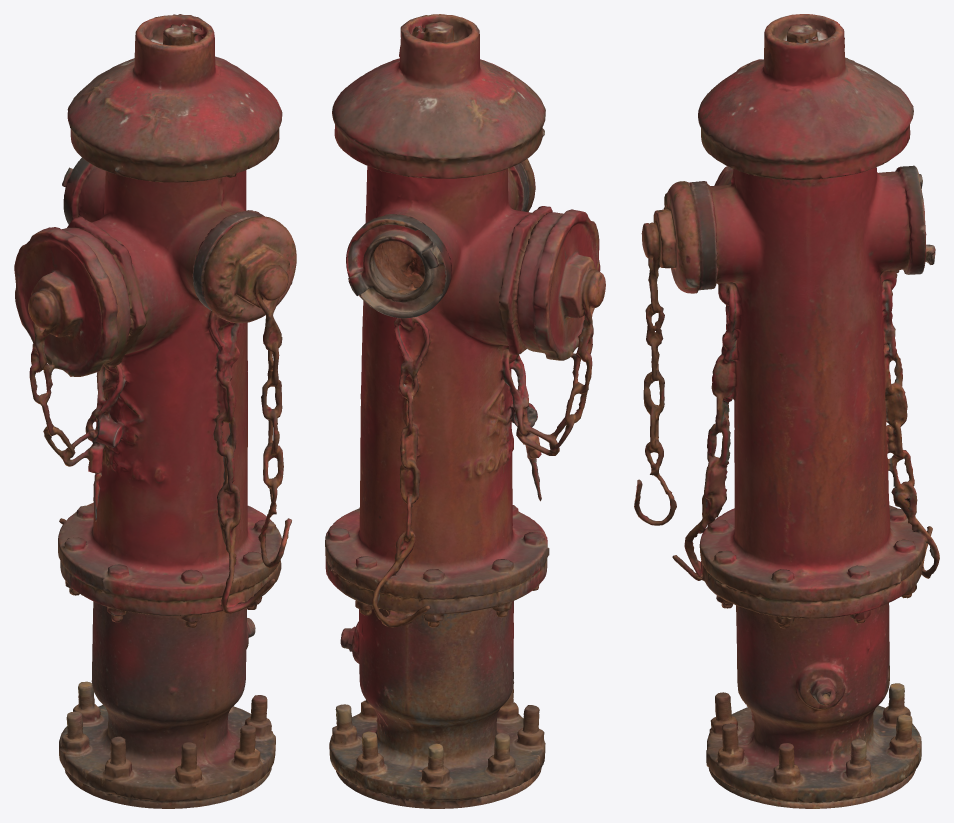
File: PX_Fire_Hydrant_01_LOD1.fbx
3 views of the same model, side by side, from view 1: azimuth 30°, elevation 25°; view 2: azimuth 150°, elevation 25°; view 3: azimuth 270°, elevation 25° (orthographic).
Visible parts, largest first — view 1: PX_Fire_Hydrant_01_LOD1; view 2: PX_Fire_Hydrant_01_LOD1; view 3: PX_Fire_Hydrant_01_LOD1.
Part boxes in pixels (box(x1,y1,x2,y2)): PX_Fire_Hydrant_01_LOD1: box(14, 14, 296, 808); PX_Fire_Hydrant_01_LOD1: box(325, 14, 605, 808); PX_Fire_Hydrant_01_LOD1: box(634, 14, 939, 808).
Size of the model in its own units: 27.47 by 77.9 by 29.25.
